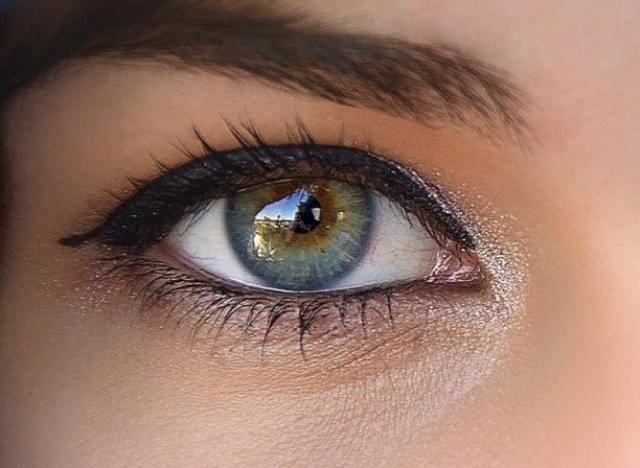eye: (232, 163, 376, 283)
